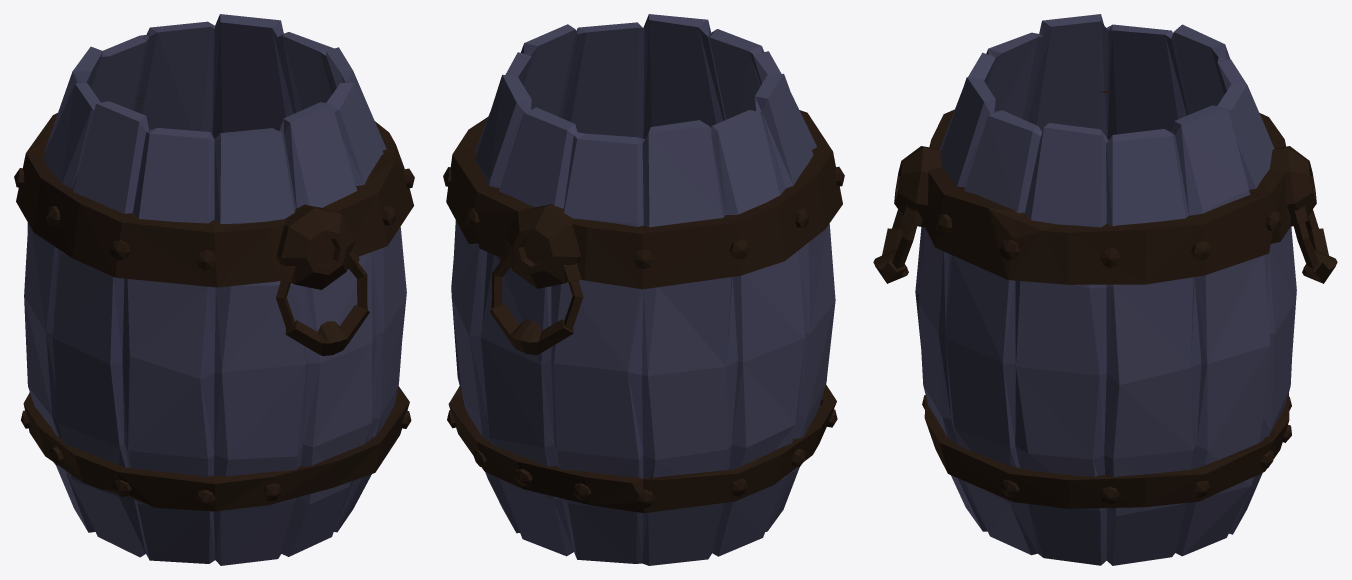
Rendered from SFFA_Barrel.fbx.
3 renders of one model, left to right at view 1: azimuth 30°, elevation 25°; view 2: azimuth 150°, elevation 25°; view 3: azimuth 270°, elevation 25°, orthographic.
Parts seen in each view (by area): view 1: SFFA_Barrel; view 2: SFFA_Barrel; view 3: SFFA_Barrel.
Boxes of the visible parts, left/top/right/bottom form: SFFA_Barrel: left=14, top=14, right=414, bottom=565; SFFA_Barrel: left=443, top=14, right=844, bottom=565; SFFA_Barrel: left=873, top=14, right=1337, bottom=565.
Bounding box in the file's own units: 77.32 × 97.06 × 93.83.
